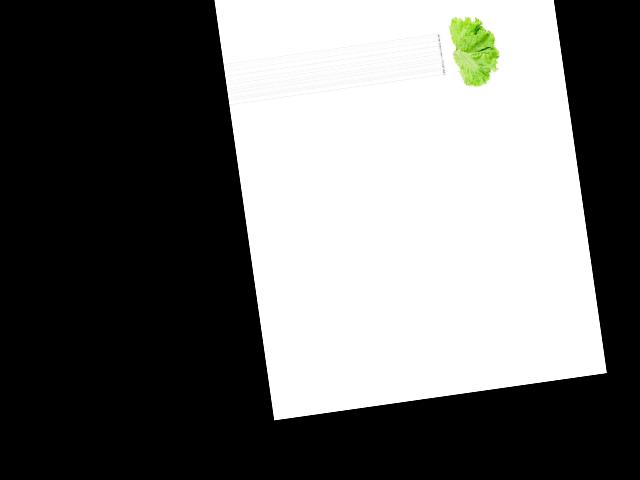lettuce: (438, 11, 504, 92)
